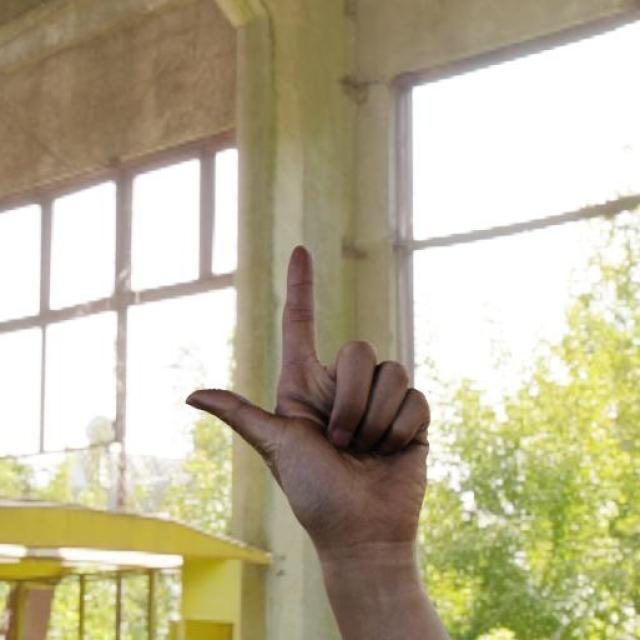L: (170, 225, 461, 640)
